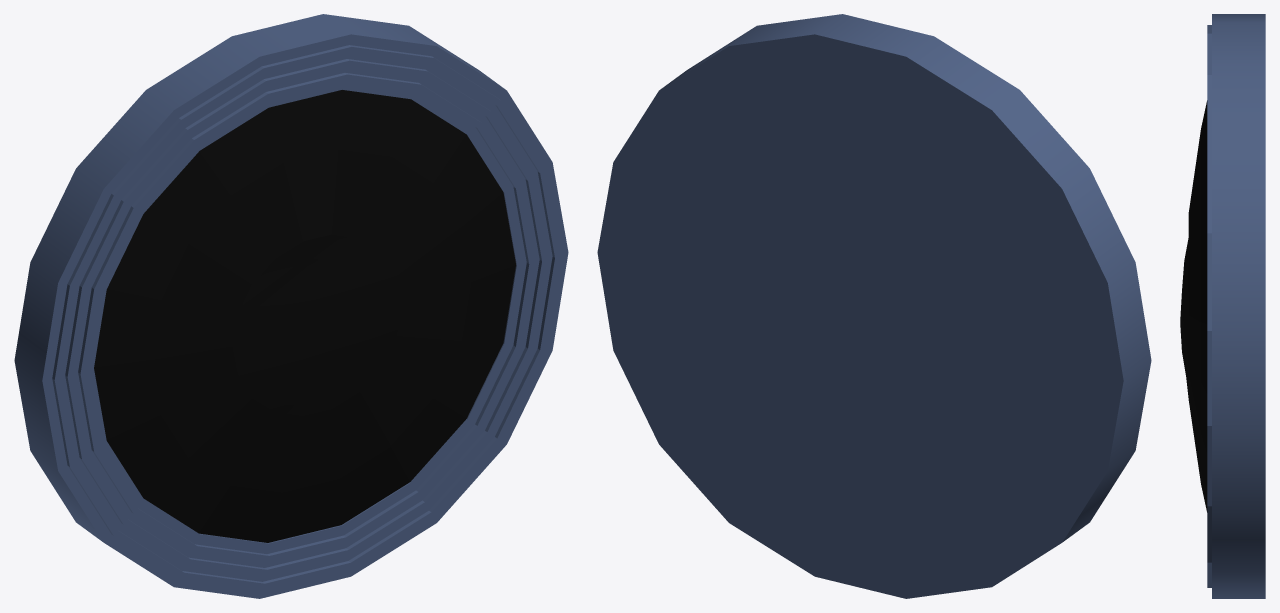
The model's file is relojPared.FBX.
3 renders of one model, left to right at view 1: azimuth 30°, elevation 25°; view 2: azimuth 150°, elevation 25°; view 3: azimuth 270°, elevation 25°, orthographic. The views are drawn at different scales.
Parts seen in each view (by area): view 1: Glass, Frame; view 2: Frame; view 3: Frame, Glass.
Part boxes in pixels (box(x1,y1,x2,y2)): Glass: box(94, 90, 515, 542); Frame: box(14, 14, 568, 598); Frame: box(597, 14, 1151, 598); Frame: box(1207, 14, 1265, 598); Glass: box(1180, 100, 1207, 512).
Bounding box in the file's own units: 600 × 591 × 87.53.
